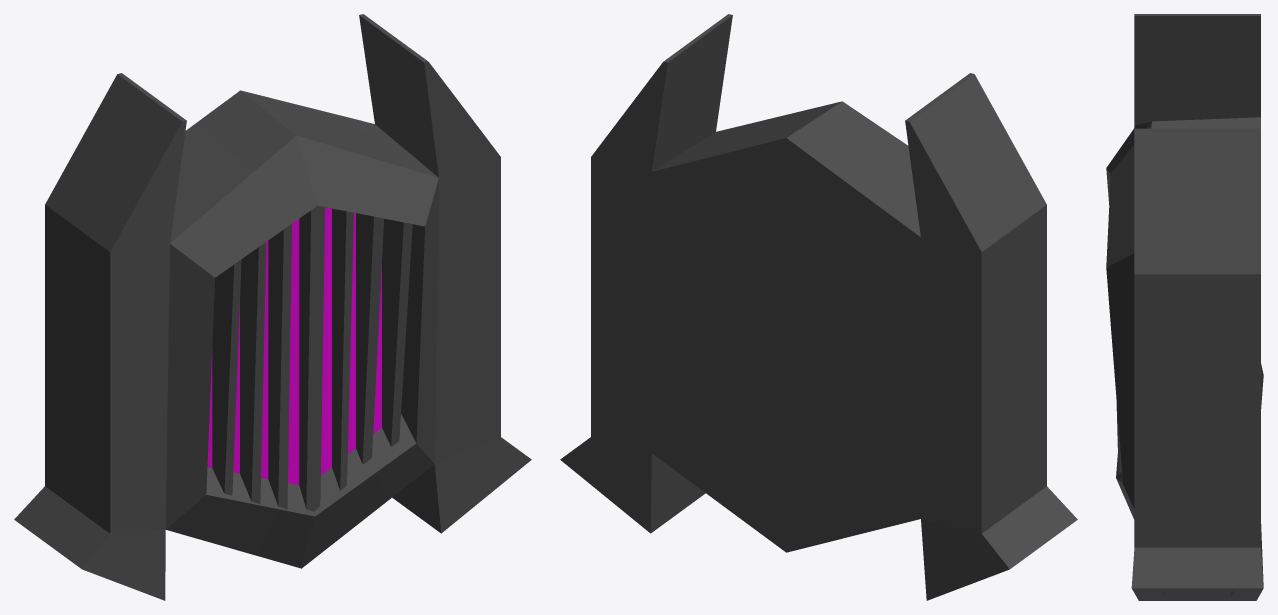
The model's file is VanguardJetPack.fbx.
3 views of the same model, side by side, from view 1: azimuth 30°, elevation 25°; view 2: azimuth 150°, elevation 25°; view 3: azimuth 270°, elevation 25° (orthographic). The views are drawn at different scales.
Parts seen in each view (by area): view 1: Cube; view 2: Cube; view 3: Cube.
Part boxes in pixels (<box>): Cube: <box>14,14,531,600</box>; Cube: <box>560,14,1077,600</box>; Cube: <box>1106,14,1263,600</box>.
Size of the model in its own units: 334 by 341 by 104.
